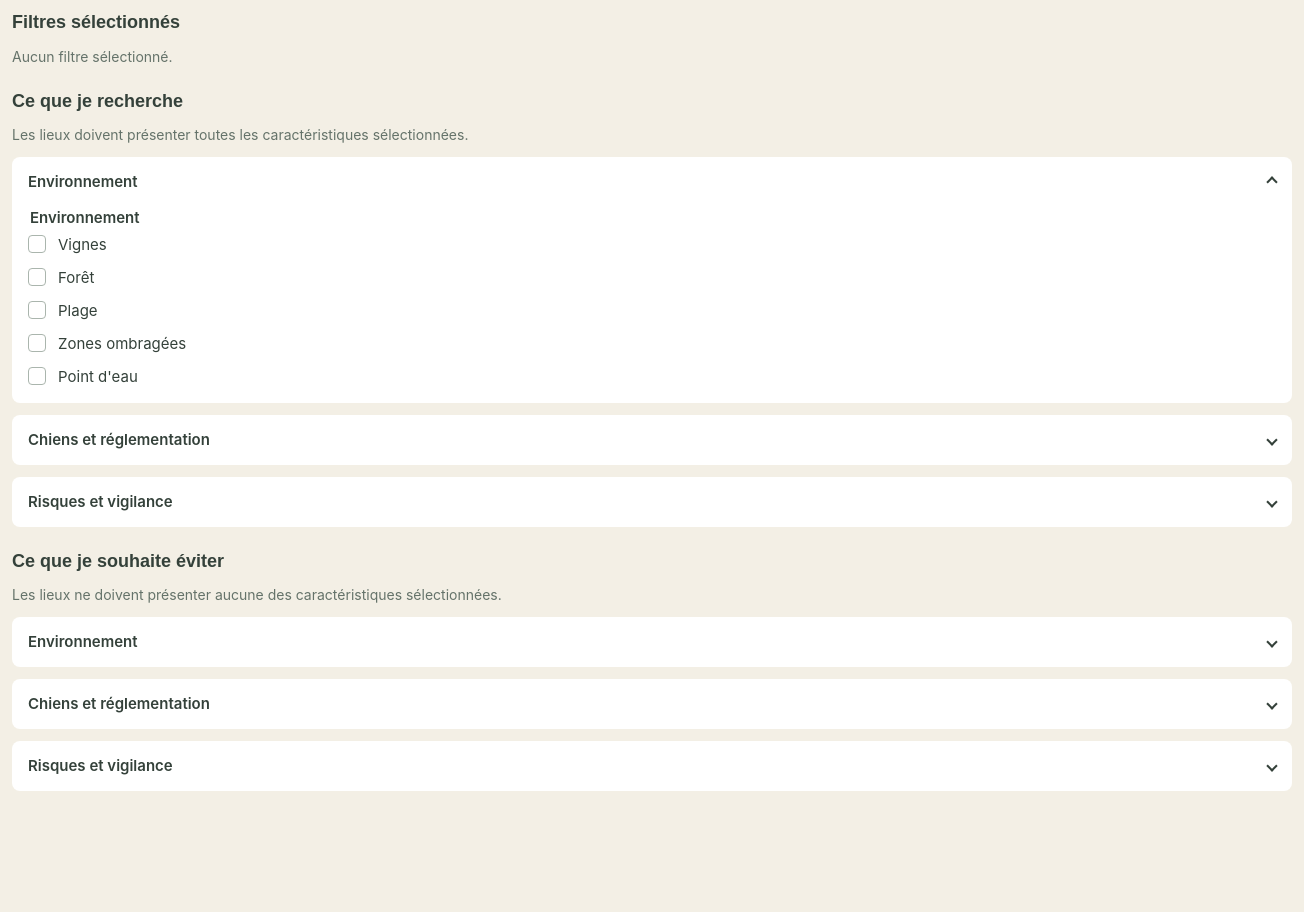
Test: FilterPanel › allows a filter to be selected
Click the checkbox labelled "Point d'eau" at (37, 376), box [28, 367, 46, 385]
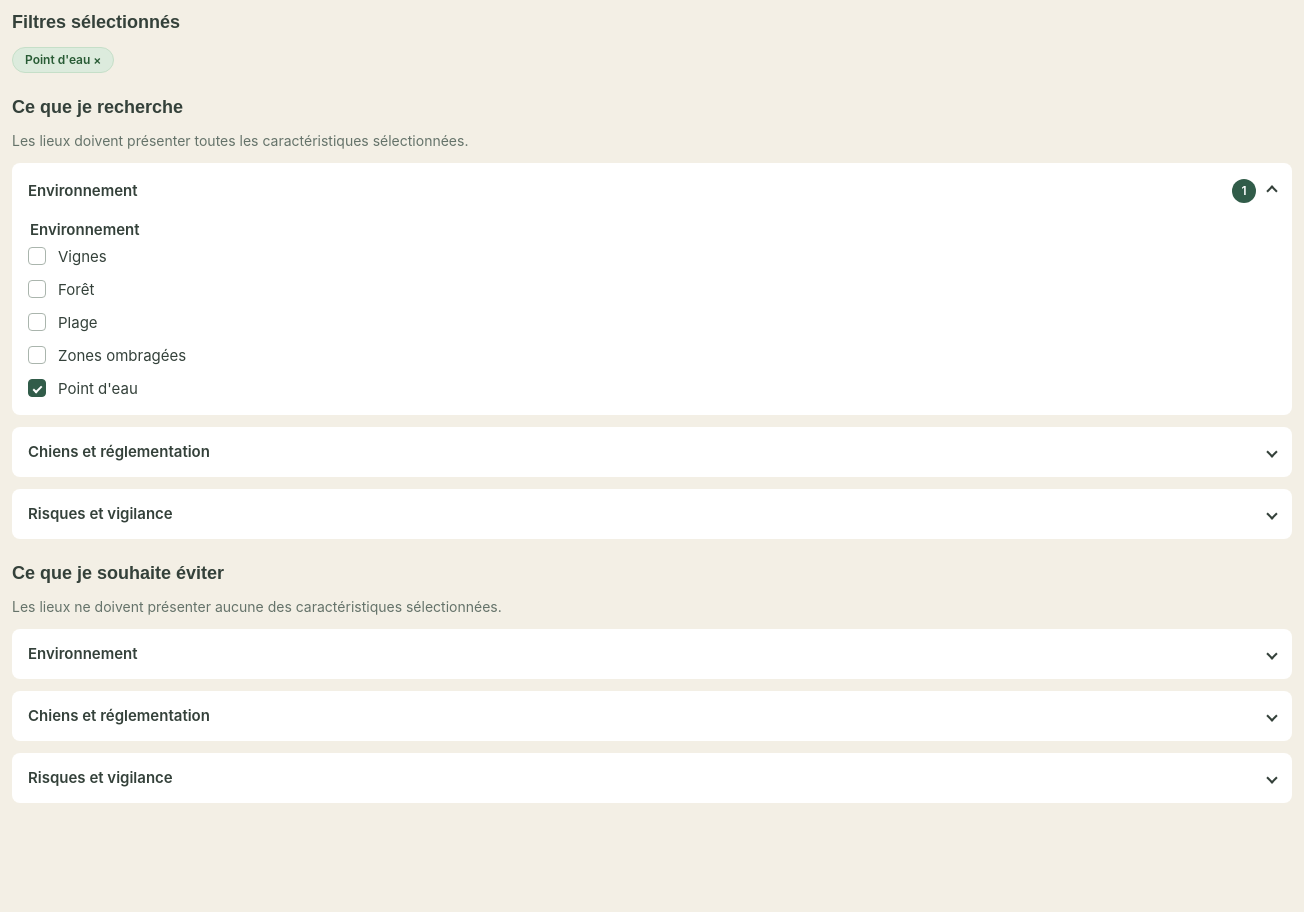
Expected: the button with aria-label "Retirer le filtre recherché : Point d'eau" is shown, [12, 46, 114, 73]
